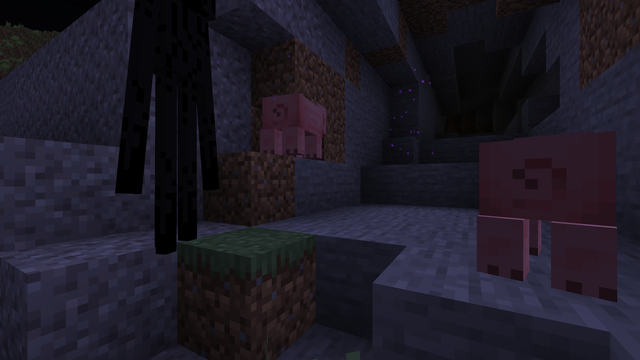cochons: (474, 129, 634, 292), (255, 90, 330, 159)
endermens: (127, 3, 222, 253)
